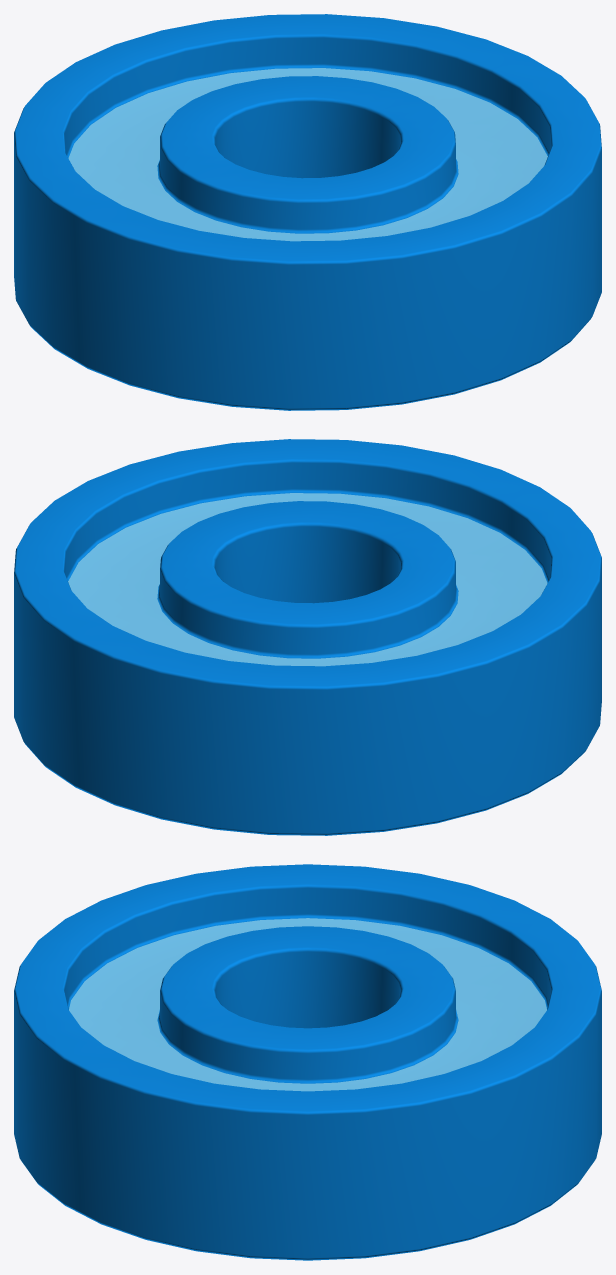
The model's file is City_18_Weight_1.glb.
3 renders of one model, top to bottom at view 1: azimuth 30°, elevation 25°; view 2: azimuth 150°, elevation 25°; view 3: azimuth 270°, elevation 25°, orthographic.
Visible parts, largest first — view 1: City_18_Weight_1; view 2: City_18_Weight_1; view 3: City_18_Weight_1.
Boxes of the visible parts, left/top/right/bottom form: City_18_Weight_1: left=14, top=14, right=601, bottom=410; City_18_Weight_1: left=14, top=439, right=601, bottom=835; City_18_Weight_1: left=14, top=864, right=601, bottom=1260.
Bounding box in the file's own units: 0.2143 × 0.0601 × 0.2143.
Materials: 1 (1 with a texture image).
